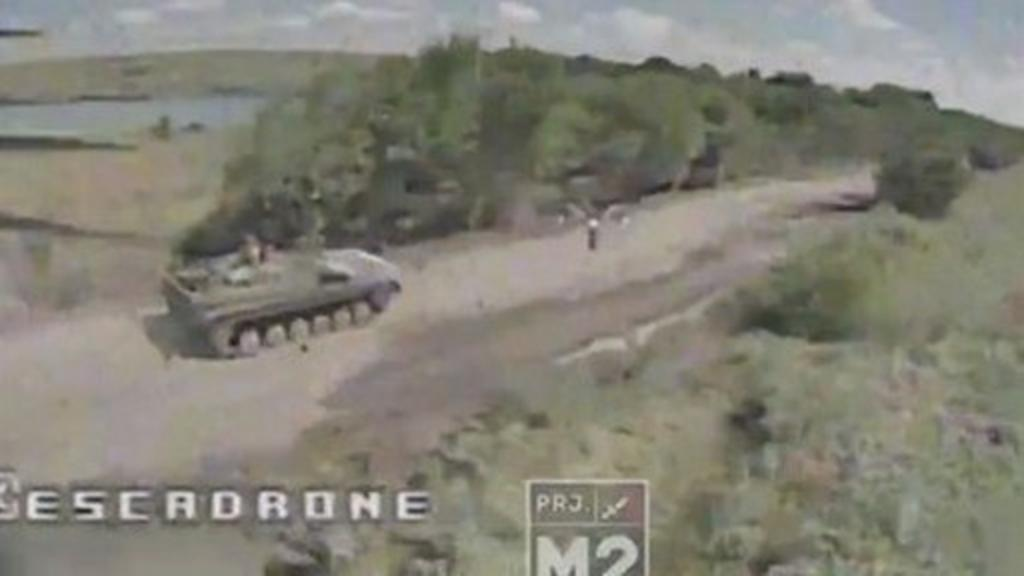APC-IFV: (146, 224, 404, 346)
